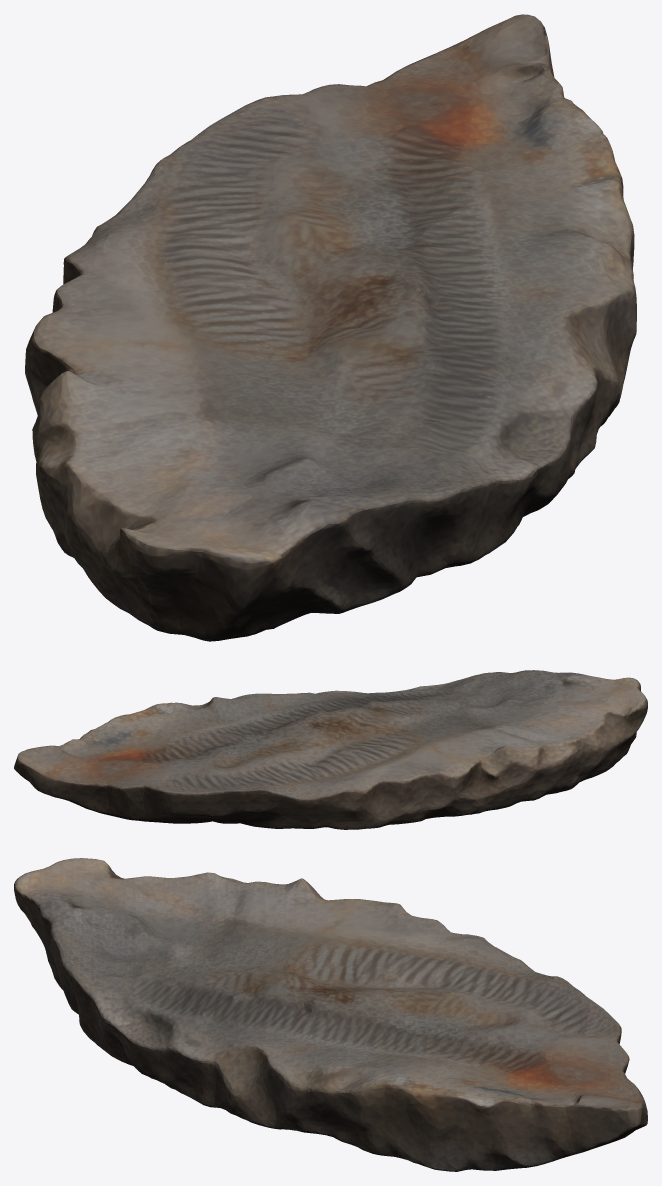
3 views of the same model, one above another, from view 1: azimuth 30°, elevation 25°; view 2: azimuth 150°, elevation 25°; view 3: azimuth 270°, elevation 25° (orthographic). The views are drawn at different scales.
Visible parts, largest first — view 1: world; view 2: world; view 3: world.
Boxes of the visible parts, x1=… form: world: x1=25, y1=14, x2=636, y2=641; world: x1=14, y1=670, x2=647, y2=829; world: x1=14, y1=858, x2=647, y2=1171.
Bounding box in the file's own units: 0.9623 × 0.1522 × 0.9883.
Materials: 1 (1 with a texture image).
